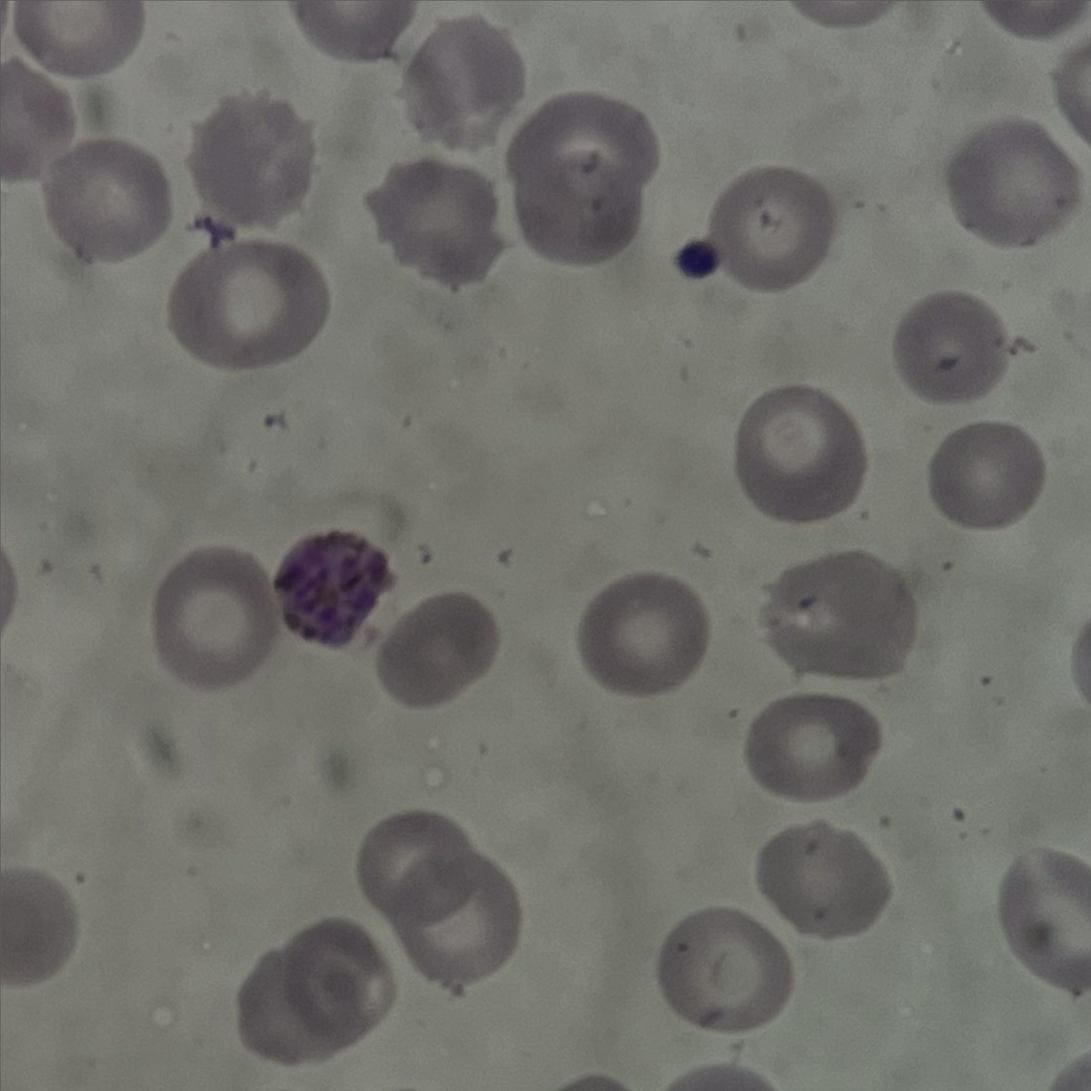Infected: (274, 529, 397, 649)
Uninfected: (166, 239, 326, 369), (760, 551, 917, 683), (364, 157, 508, 288), (732, 386, 869, 523), (150, 549, 280, 690), (389, 855, 520, 989), (943, 121, 1078, 248), (401, 15, 527, 151), (656, 907, 793, 1031), (703, 166, 836, 292), (188, 94, 313, 226), (576, 574, 709, 697), (754, 821, 890, 941), (41, 139, 173, 262), (508, 149, 644, 265), (508, 97, 661, 195), (743, 693, 881, 801), (376, 593, 502, 710), (996, 845, 1091, 994), (236, 945, 357, 1061), (353, 807, 469, 925), (891, 292, 1013, 404), (274, 920, 383, 1035), (928, 421, 1045, 528), (13, 0, 148, 78), (1, 867, 79, 986), (1, 58, 75, 182), (293, 3, 416, 61)
